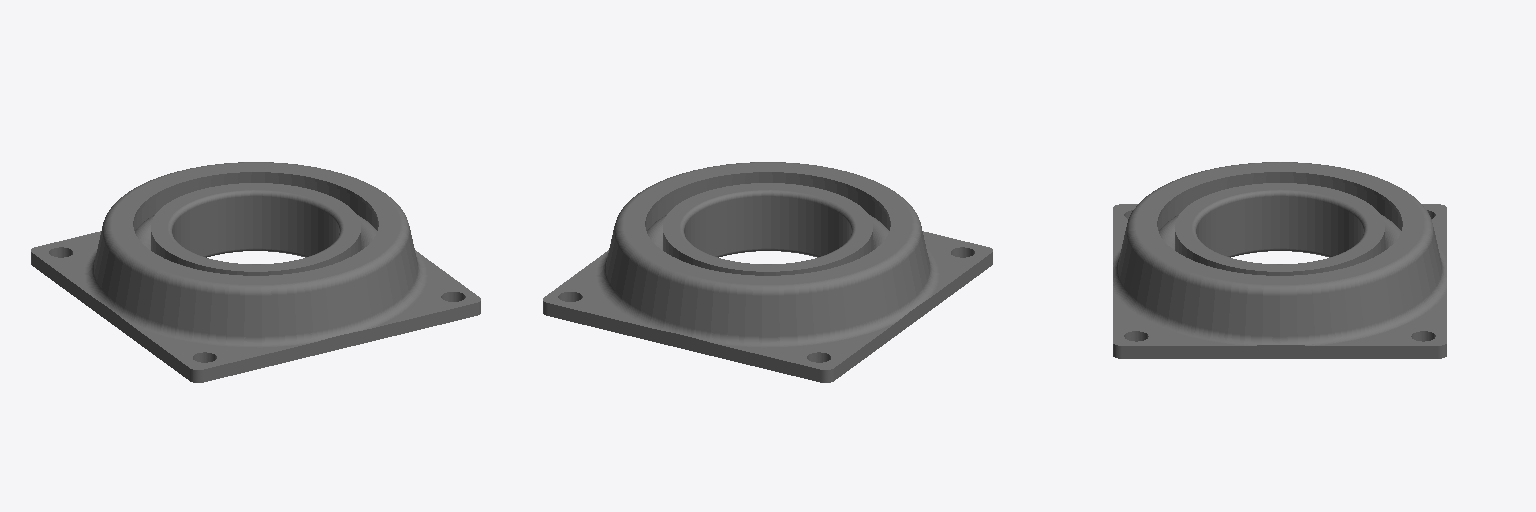
The model's file is LeftVerticalRotationSlider_2.obj.
3 renders of one model, left to right at view 1: azimuth 30°, elevation 25°; view 2: azimuth 150°, elevation 25°; view 3: azimuth 270°, elevation 25°, orthographic.
Size of the model in its own units: 0.07 by 0.0148 by 0.07.